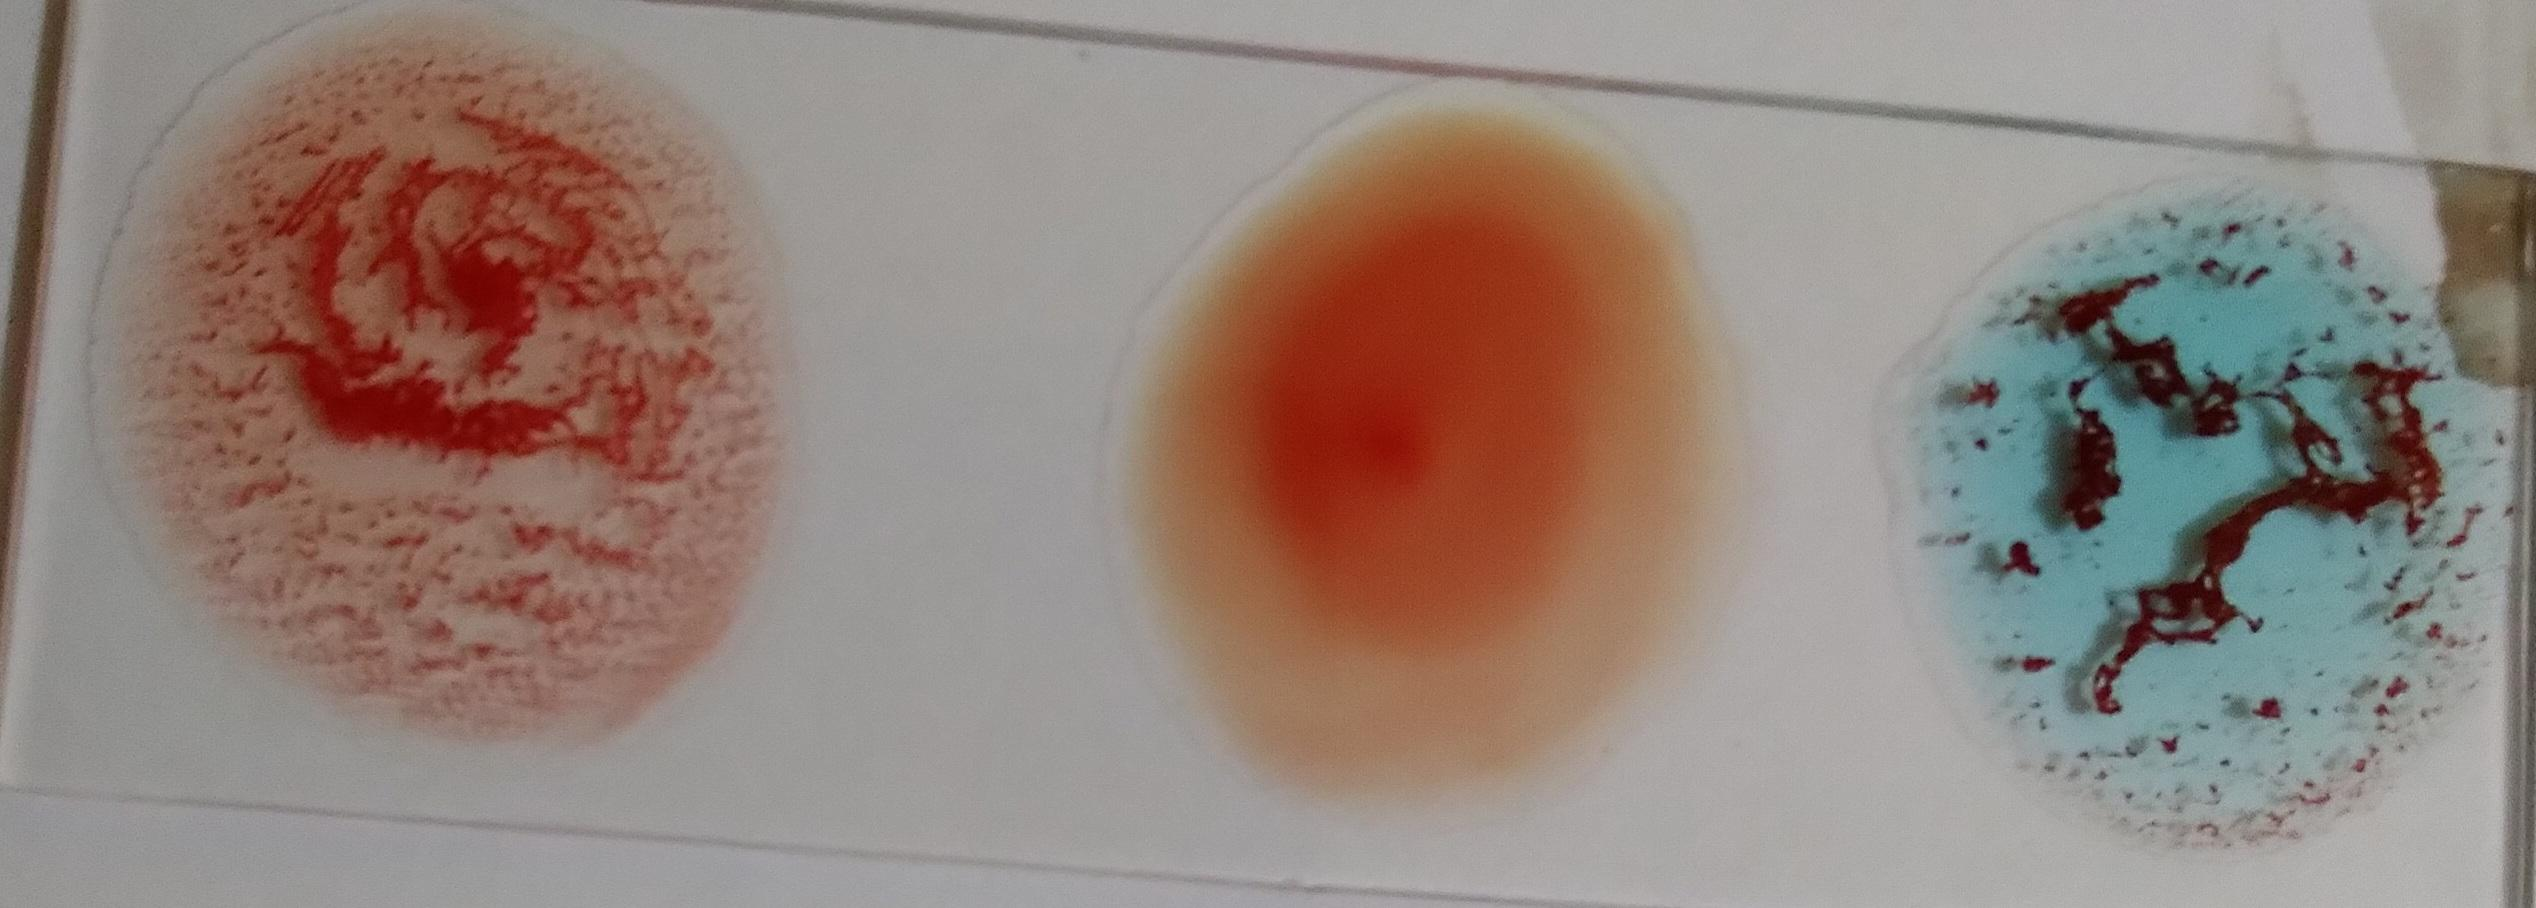A: (1933, 206, 2473, 842)
D: (118, 31, 773, 719)
